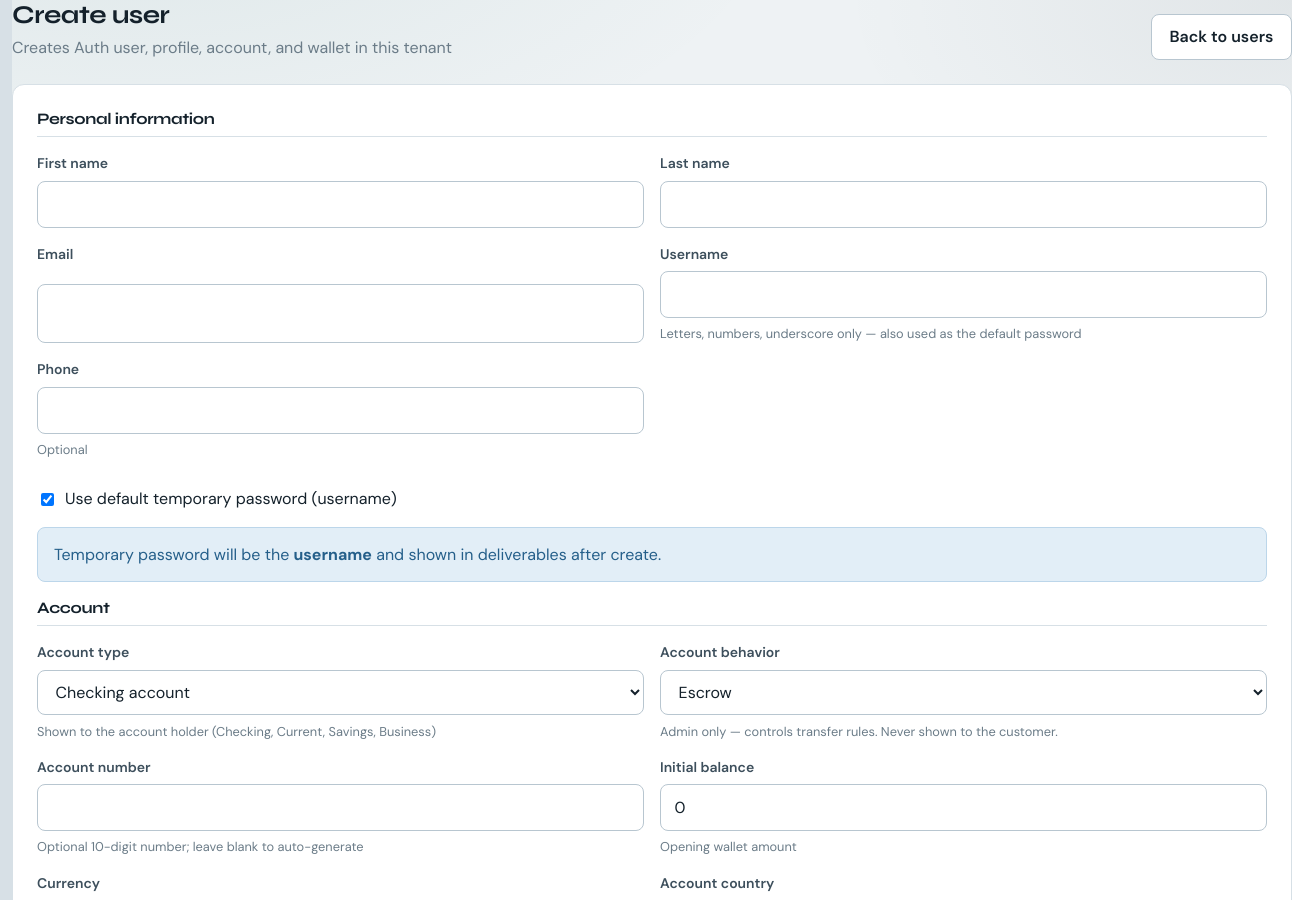
Test: admin phase 3 screens › creates a user through the admin form
Type "New" into the field labelled "First name".
click(340, 204); type("New")  # box [37,181,644,228]
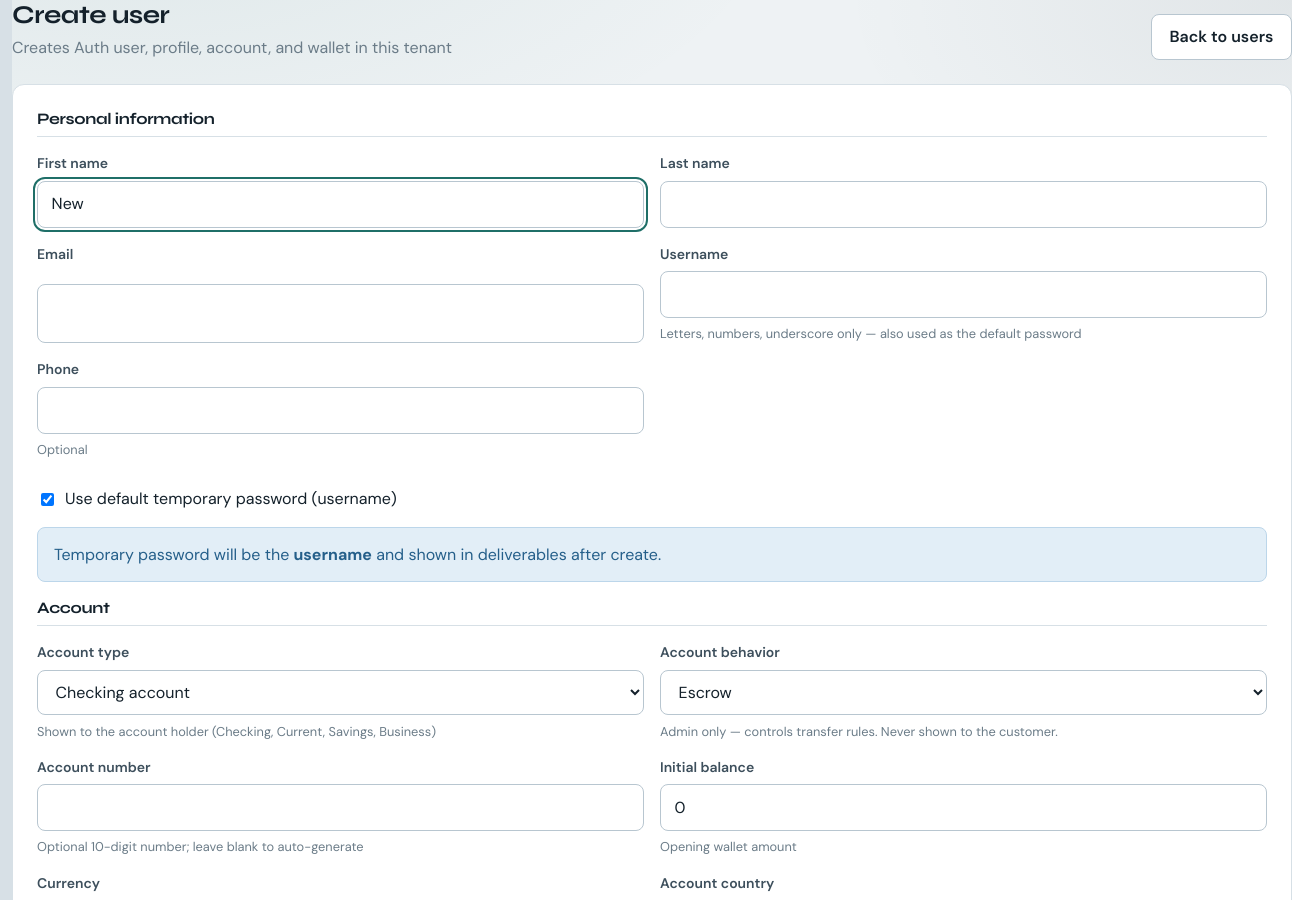
Type "Person" into the field labelled "Last name".
click(964, 204); type("Person")  # box [660,181,1267,228]
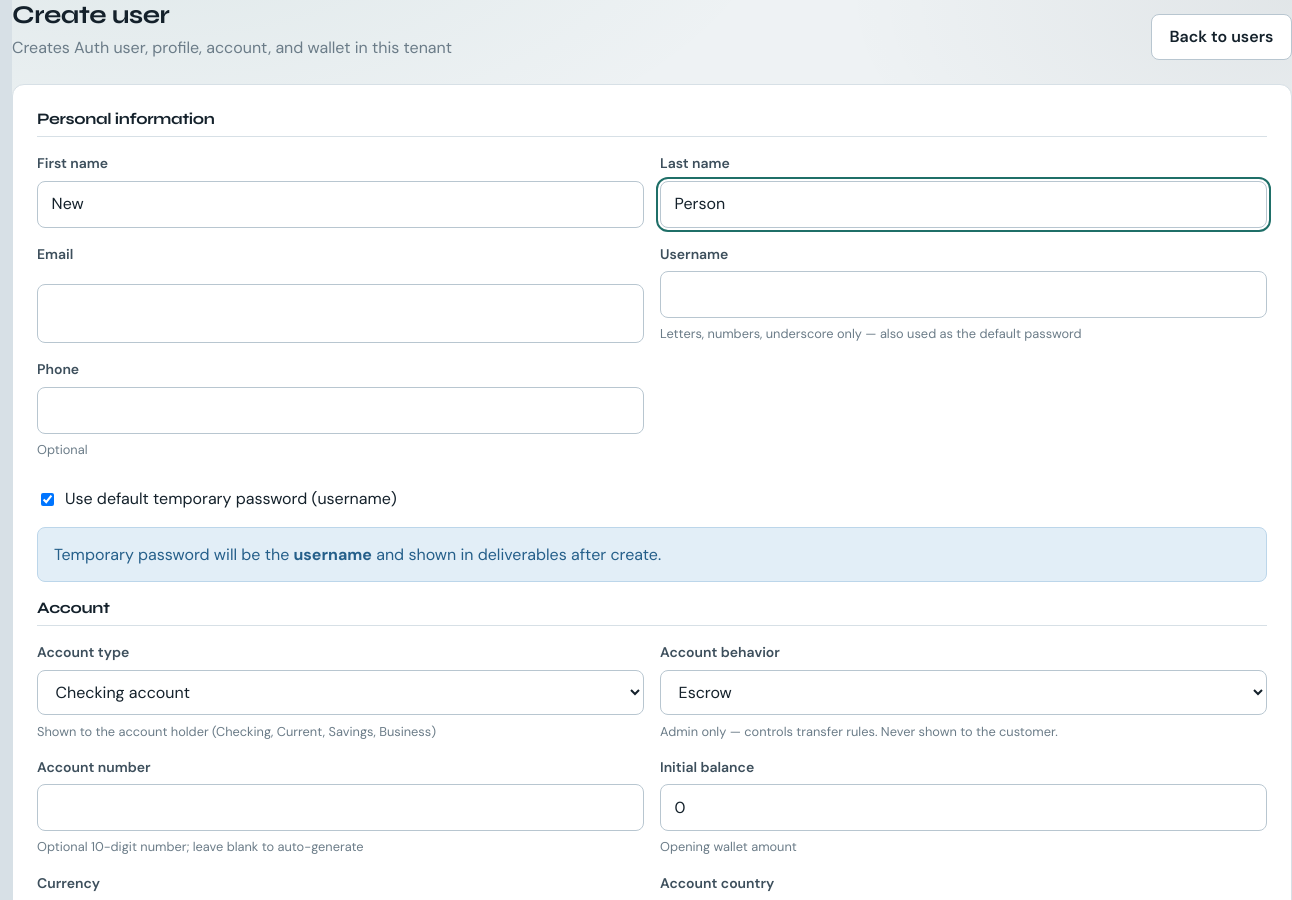
Type "new@example.com" into the field labelled "Email".
click(340, 314); type("new@example.com")  # box [37,284,644,343]
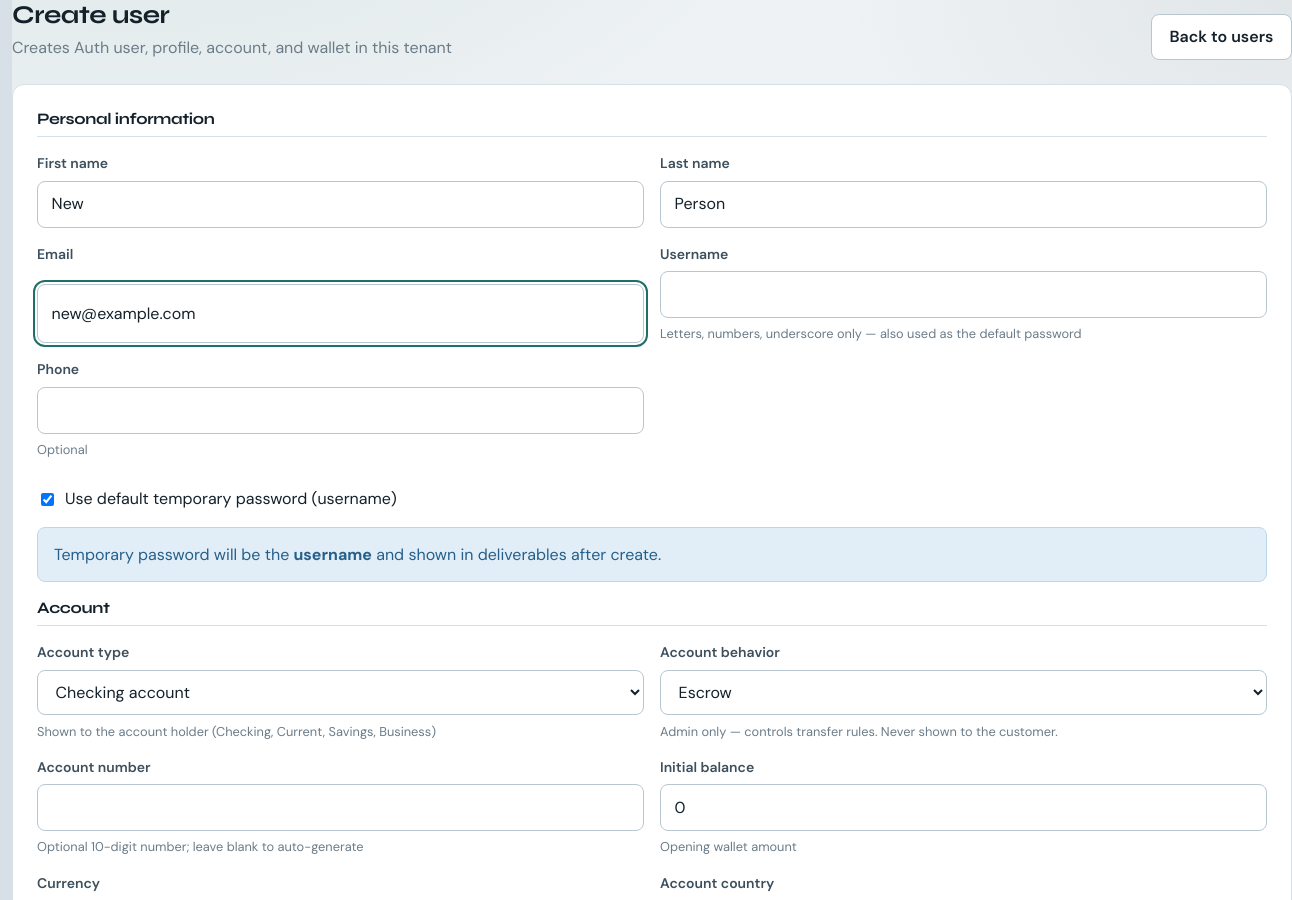
Type "newperson" into the field labelled "Username".
click(964, 294); type("newperson")  # box [660,271,1267,318]
(page scrolled)
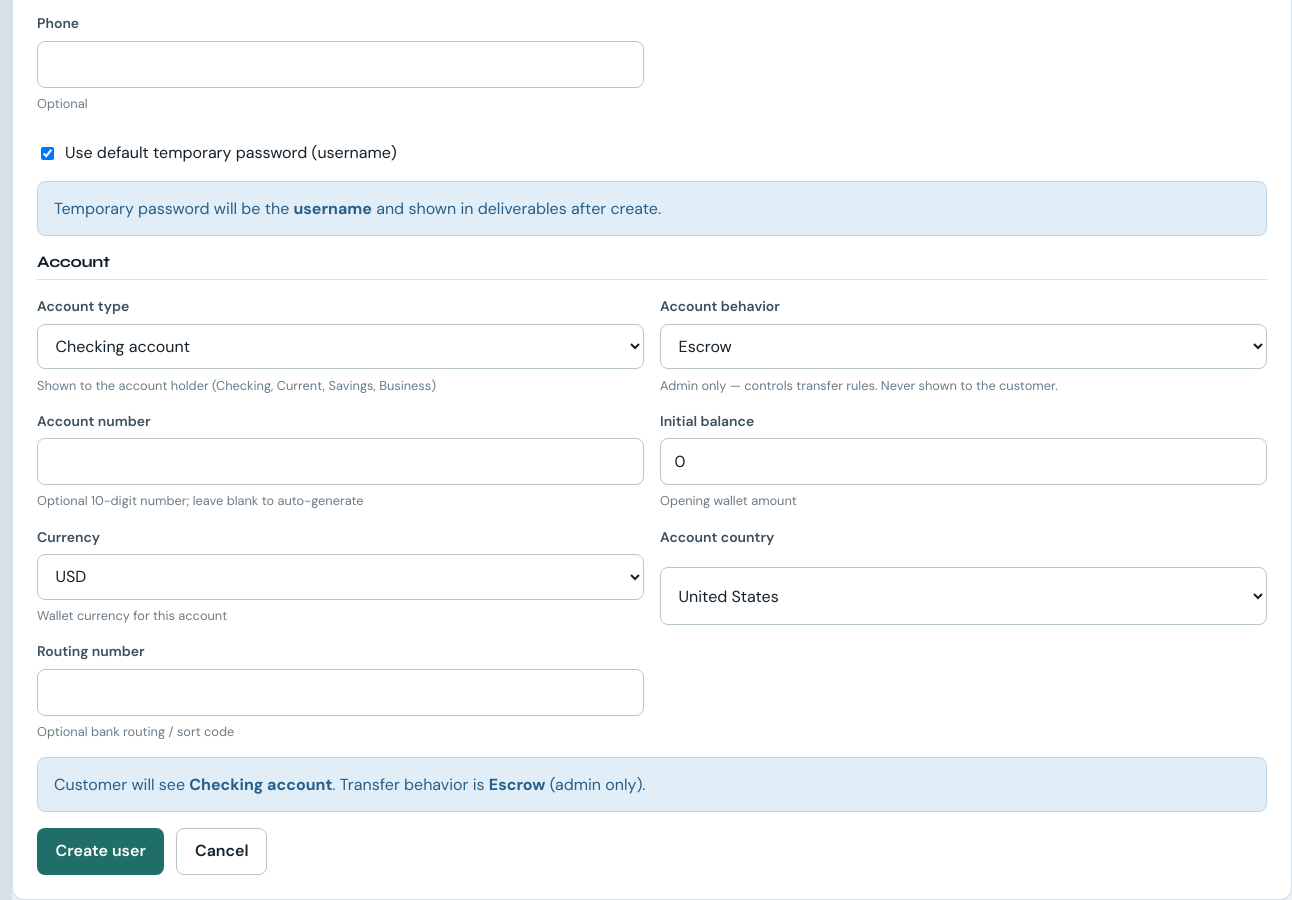
Click the button "Create user".
click(101, 851)  # box [37,828,164,875]
(page scrolled)
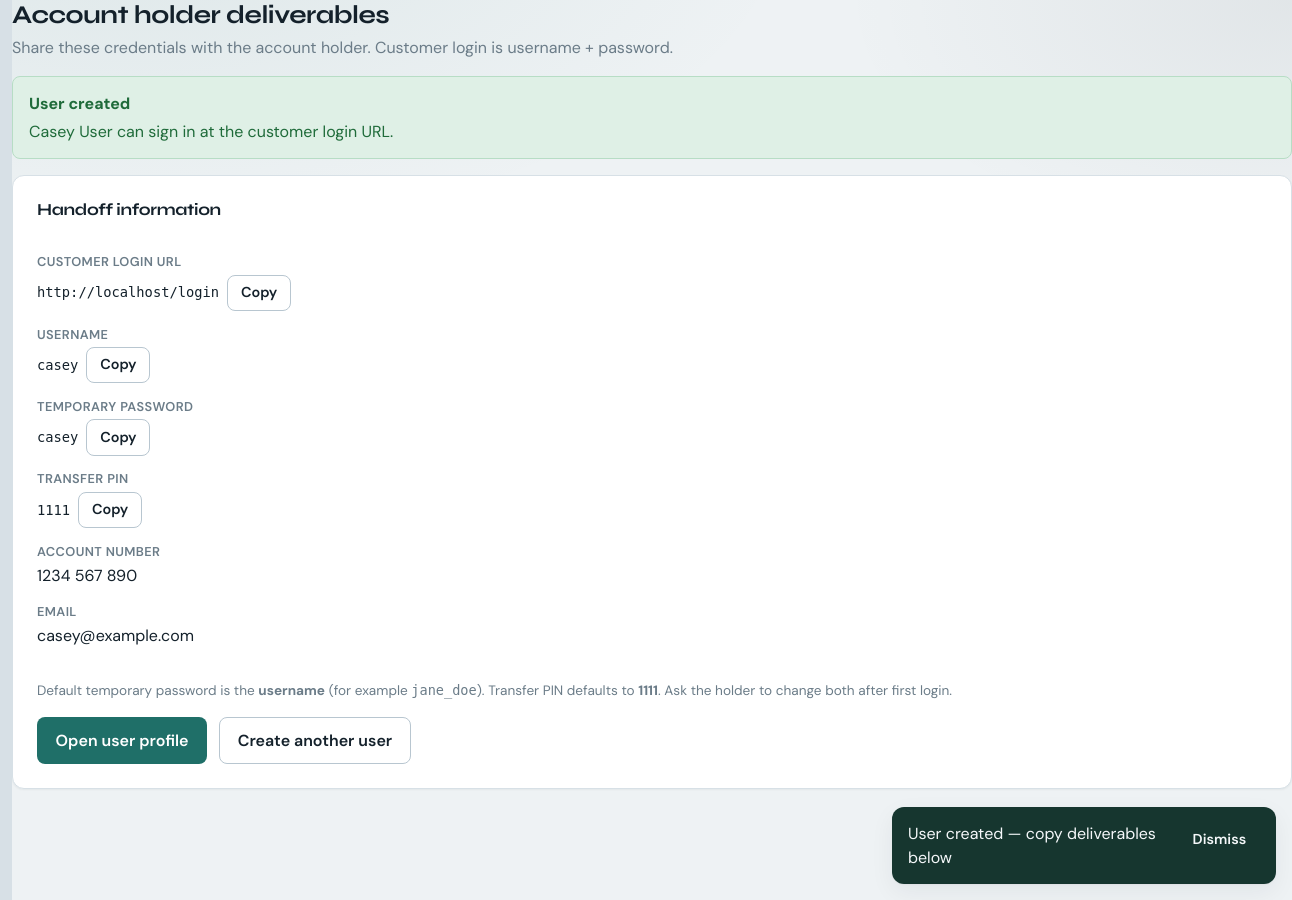
expect the text "Temporary password" is shown: met, box [37,398,193,415]
expect the heading "Account holder deliverables" is shown: met, box [12,0,389,30]
